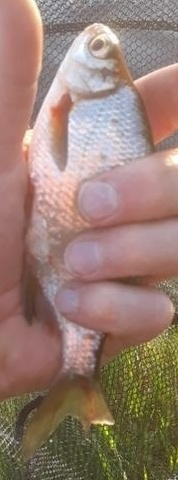Rutilus rutilus: (20, 20, 158, 460)
